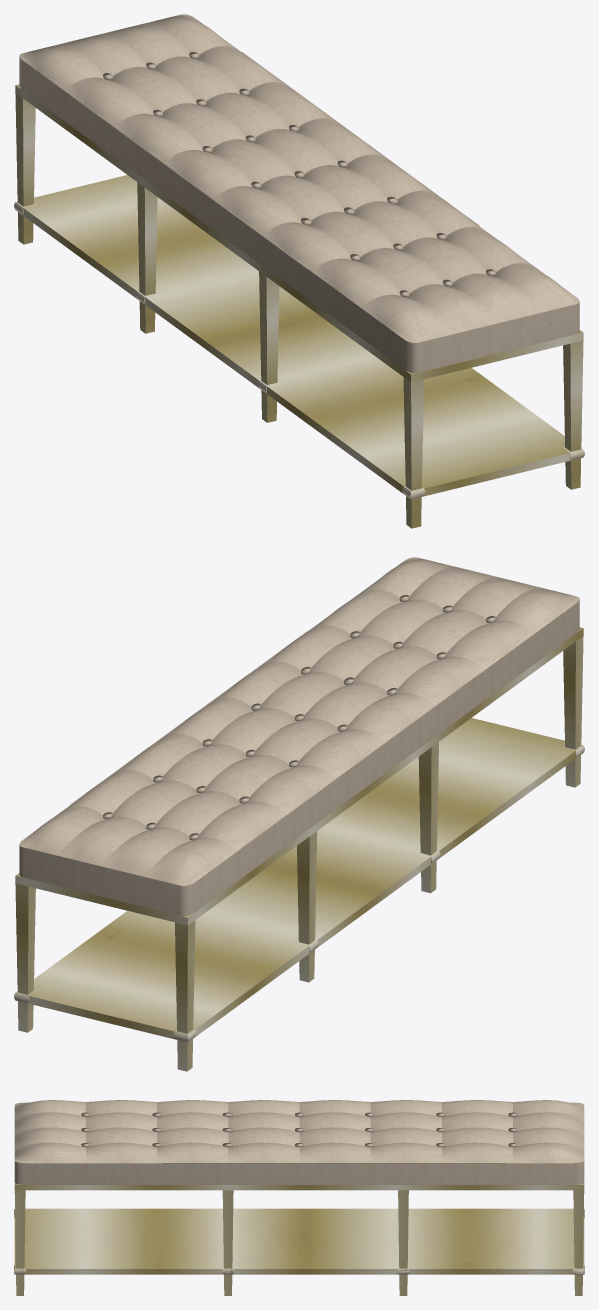
The picture shows the model from 3 angles, top to bottom: view 1: azimuth 30°, elevation 25°; view 2: azimuth 150°, elevation 25°; view 3: azimuth 270°, elevation 25°; orthographic projection. The views are drawn at different scales.
Parts seen in each view (by area): view 1: Mesh32_Cushion_Bottom1_Cushion_1_1_Groupe_3__6_1_Group1_Model; view 2: Mesh32_Cushion_Bottom1_Cushion_1_1_Groupe_3__6_1_Group1_Model; view 3: Mesh32_Cushion_Bottom1_Cushion_1_1_Groupe_3__6_1_Group1_Model.
Boxes of the visible parts, box(x1,y1,x2,y2) form: Mesh32_Cushion_Bottom1_Cushion_1_1_Groupe_3__6_1_Group1_Model: box(14, 14, 584, 528); Mesh32_Cushion_Bottom1_Cushion_1_1_Groupe_3__6_1_Group1_Model: box(14, 557, 584, 1071); Mesh32_Cushion_Bottom1_Cushion_1_1_Groupe_3__6_1_Group1_Model: box(14, 1100, 584, 1295).
Bounding box in the file's own units: 0.2538 × 0.2734 × 1.
Materials: 2 (2 with a texture image).
